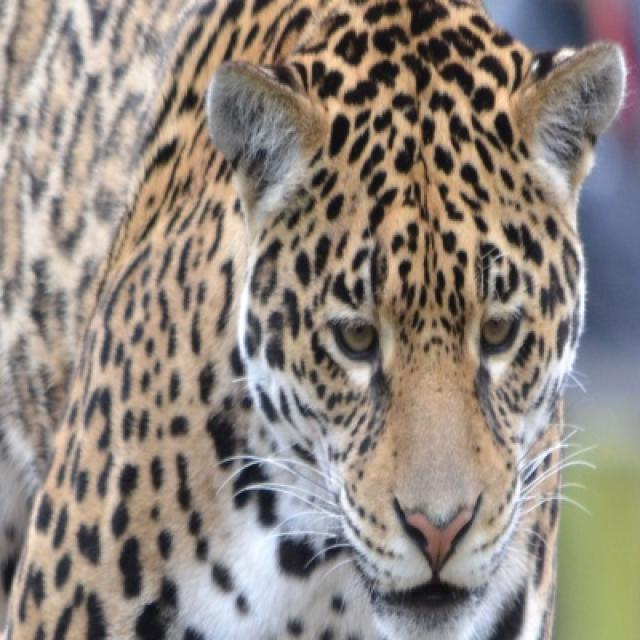Jaguar: (0, 0, 629, 638)
